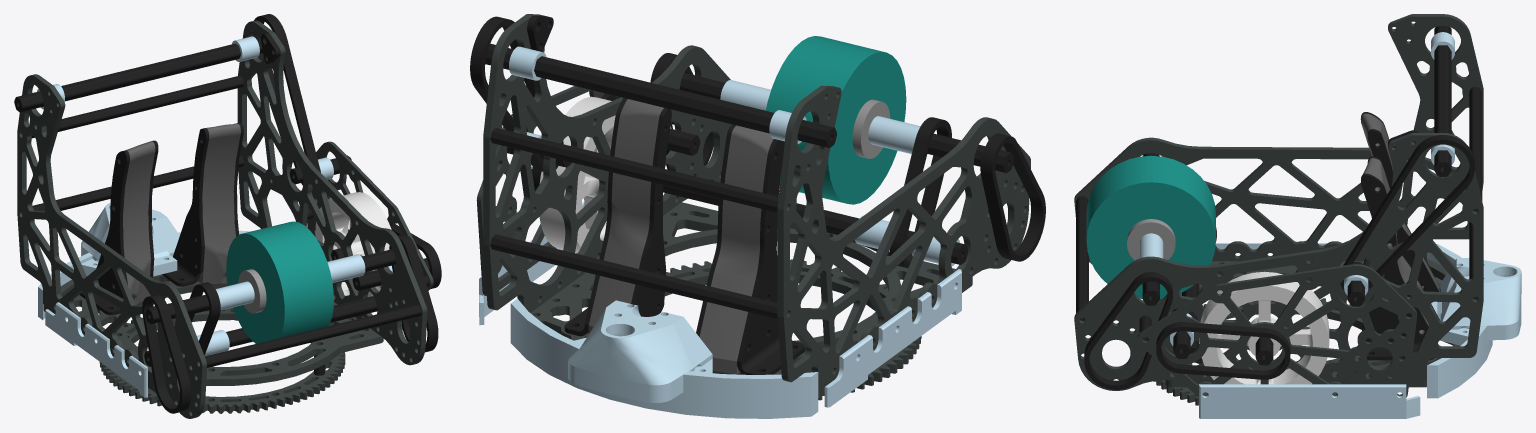
The picture shows the model from 3 angles, left to right: view 1: azimuth 30°, elevation 25°; view 2: azimuth 150°, elevation 25°; view 3: azimuth 270°, elevation 25°; orthographic projection. The views are drawn at different scales.
Parts seen in each view (by area): view 1: Right Main Plate, Left Main Plate, Shooter Wheel, 3/8" Rounded Hex #10-32 Standoff (×3), Bottom Plate, 50T 5M 9mm Wide Belt (×3), Left Finger, Spur gear (82 teeth), Right Finger, 1/2" Rounded Hex (REV) (10.187 in), skirt-left, Left Finger Inner Bracket (+17 smaller); view 2: Right Main Plate, Left Main Plate, skirt-back, Shooter Wheel, 3/8" Rounded Hex #10-32 Standoff (×2), Right Finger, Left Finger, Bottom Plate, 1/2" Rounded Hex (REV) (10.187 in), skirt-left, Right Finger Outer Bracket, 50T 5M 9mm Wide Belt (×2) (+18 smaller); view 3: Left Main Plate, Right Main Plate, Left Outer Plate, Shooter Wheel, skirt-right, skirt-back, Flywheel, 50T 5M 9mm Wide Belt (×2), 70T 5M 9mm Wide Belt, 3/8" Rounded Hex #10-32 Standoff (×2), Left Finger Outer Bracket, 1/2" Rounded Hex (REV) (10.187 in) (+11 smaller).
Part boxes in pixels (bbox=[...]): Right Main Plate: bbox=[17, 74, 206, 418]; Left Main Plate: bbox=[237, 20, 427, 365]; Shooter Wheel: bbox=[226, 221, 333, 343]; 3/8" Rounded Hex #10-32 Standoff (×3): bbox=[31, 75, 421, 367]; Bottom Plate: bbox=[43, 274, 383, 393]; 50T 5M 9mm Wide Belt (×3): bbox=[142, 223, 441, 413]; Left Finger: bbox=[198, 123, 240, 283]; Spur gear (82 teeth): bbox=[99, 307, 345, 413]; Right Finger: bbox=[123, 141, 155, 304]; 1/2" Rounded Hex (REV) (10.187 in): bbox=[14, 37, 262, 112]; skirt-left: bbox=[45, 302, 147, 397]; Left Finger Inner Bracket: bbox=[161, 128, 209, 286]; Right Main Plate: bbox=[777, 85, 1030, 389]; Left Main Plate: bbox=[483, 14, 731, 312]; skirt-back: bbox=[510, 298, 818, 418]; Shooter Wheel: bbox=[766, 36, 906, 204]; 3/8" Rounded Hex #10-32 Standoff (×2): bbox=[490, 128, 778, 318]; Right Finger: bbox=[699, 125, 773, 374]; Left Finger: bbox=[588, 99, 663, 334]; Bottom Plate: bbox=[530, 202, 972, 397]; 1/2" Rounded Hex (REV) (10.187 in): bbox=[485, 43, 836, 147]; skirt-left: bbox=[824, 269, 961, 407]; Right Finger Outer Bracket: bbox=[737, 139, 804, 374]; 50T 5M 9mm Wide Belt (×2): bbox=[650, 53, 1045, 261]; Left Main Plate: bbox=[1074, 133, 1483, 390]; Right Main Plate: bbox=[1074, 14, 1483, 263]; Left Outer Plate: bbox=[1137, 264, 1417, 397]; Shooter Wheel: bbox=[1086, 155, 1215, 298]; skirt-right: bbox=[1199, 384, 1420, 418]; skirt-back: bbox=[1427, 244, 1521, 398]; Flywheel: bbox=[1199, 271, 1329, 384]; 50T 5M 9mm Wide Belt (×2): bbox=[1084, 272, 1290, 389]; 70T 5M 9mm Wide Belt: bbox=[1340, 135, 1474, 290]; 3/8" Rounded Hex #10-32 Standoff (×2): bbox=[1076, 87, 1482, 320]; Left Finger Outer Bracket: bbox=[1361, 173, 1433, 360]; 1/2" Rounded Hex (REV) (10.187 in): bbox=[1434, 25, 1451, 176].
Size of the model in its own units: 0.2977 by 0.2495 by 0.3508.
